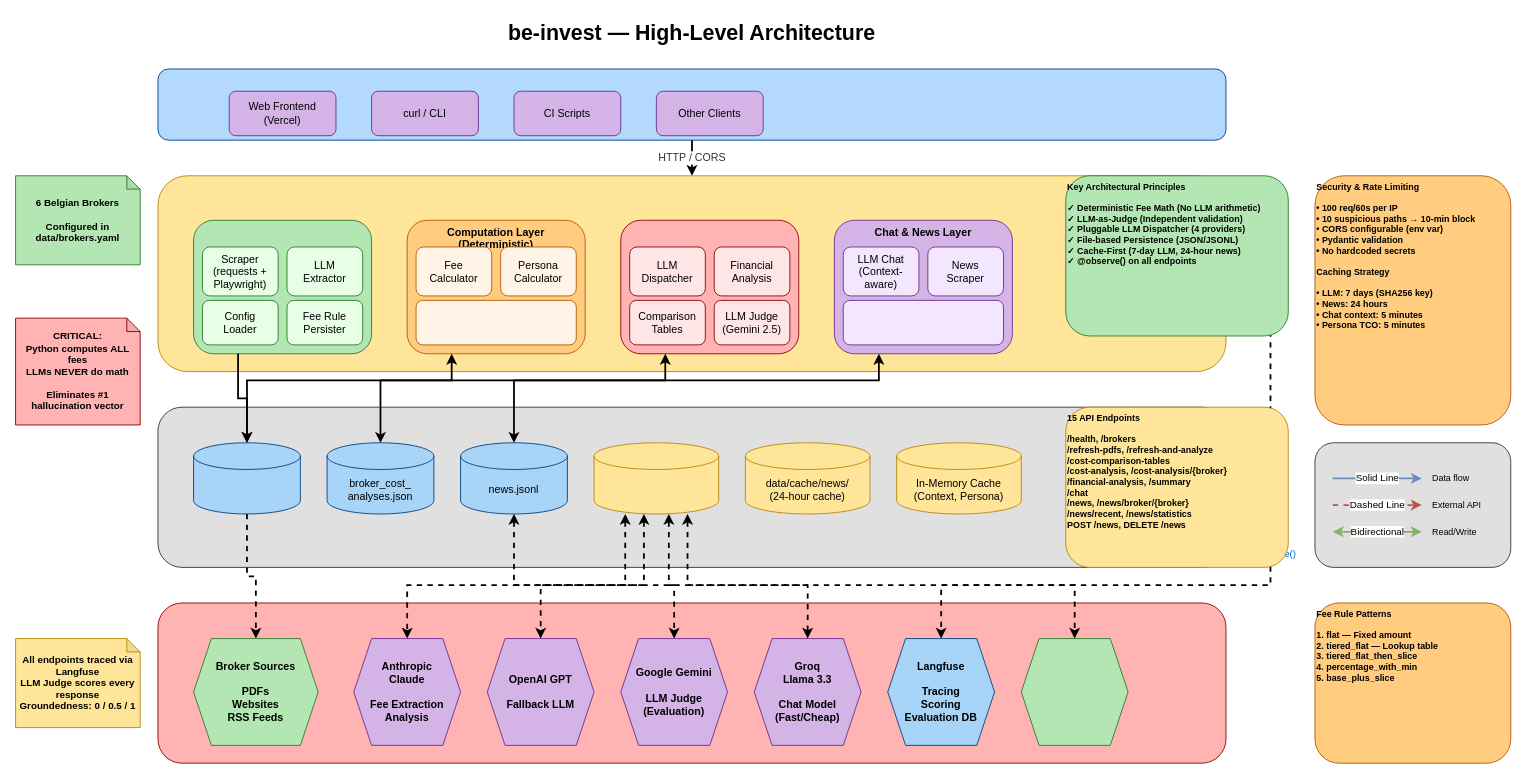
Image size: 1526x779. Some labels were removed from this diagram. The box of each missing label's shape, as (x1, y1, x2, y2) in pixels:
Analysis Layer: (620, 219, 799, 354)
Background Scheduler: (842, 299, 1003, 345)
Clients / Consumers: (157, 68, 1226, 140)
Data Flow Legend: (1314, 442, 1511, 567)
data/cache/llm/ (7-day hash cache): (593, 442, 719, 514)
External Dependencies: (157, 602, 1226, 763)
FastAPI Application (port 8000) src/be_invest/api/server.py: (157, 175, 1226, 372)
fee_rules.json (Runtime Truth): (193, 442, 300, 514)
File System / Cache: (157, 406, 1226, 567)
Ingestion Layer: (193, 219, 372, 354)
Playwright JS-heavy Scraping: (1020, 638, 1128, 745)
Validator (Anti-hallucination): (415, 299, 576, 345)
